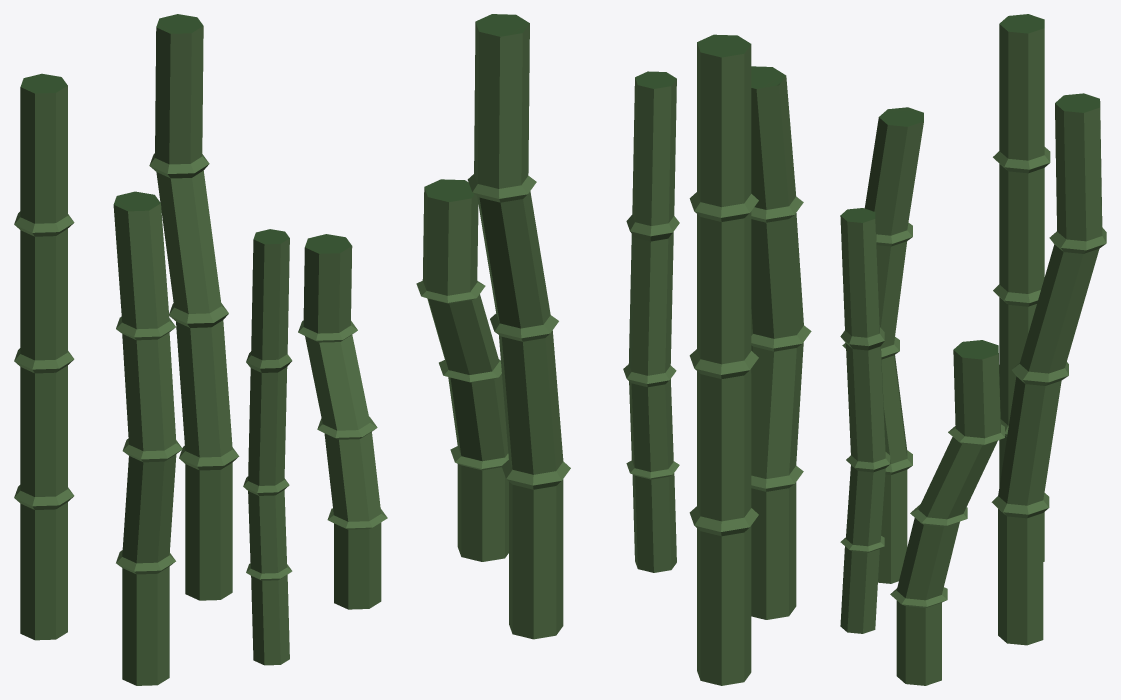
File: Bamboo_1.fbx
3 views of the same model, side by side, from view 1: azimuth 30°, elevation 25°; view 2: azimuth 150°, elevation 25°; view 3: azimuth 270°, elevation 25° (orthographic). The views are drawn at different scales.
Visible parts, largest first — view 1: M_Bamboo 1; view 2: M_Bamboo 1; view 3: M_Bamboo 1.
Boxes of the visible parts, x1=… form: M_Bamboo 1: x1=14, y1=14, x2=387, y2=685; M_Bamboo 1: x1=416, y1=14, x2=811, y2=685; M_Bamboo 1: x1=840, y1=14, x2=1106, y2=685.
Size of the model in its own units: 0.688 by 1.15 by 0.5189.
Materials: 1 (1 with a texture image).
